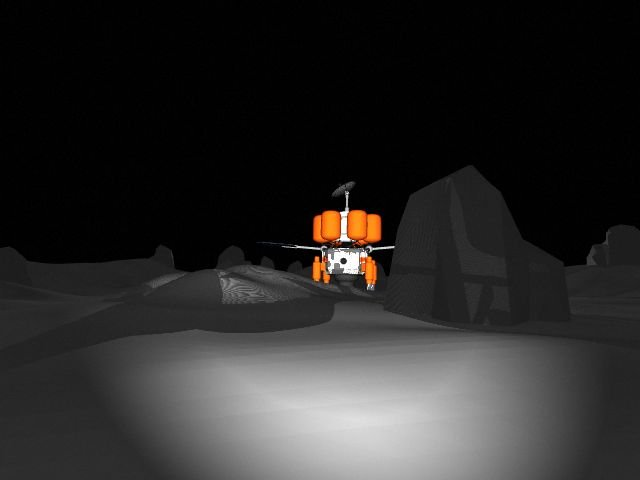homebase: (246, 179, 438, 293)
